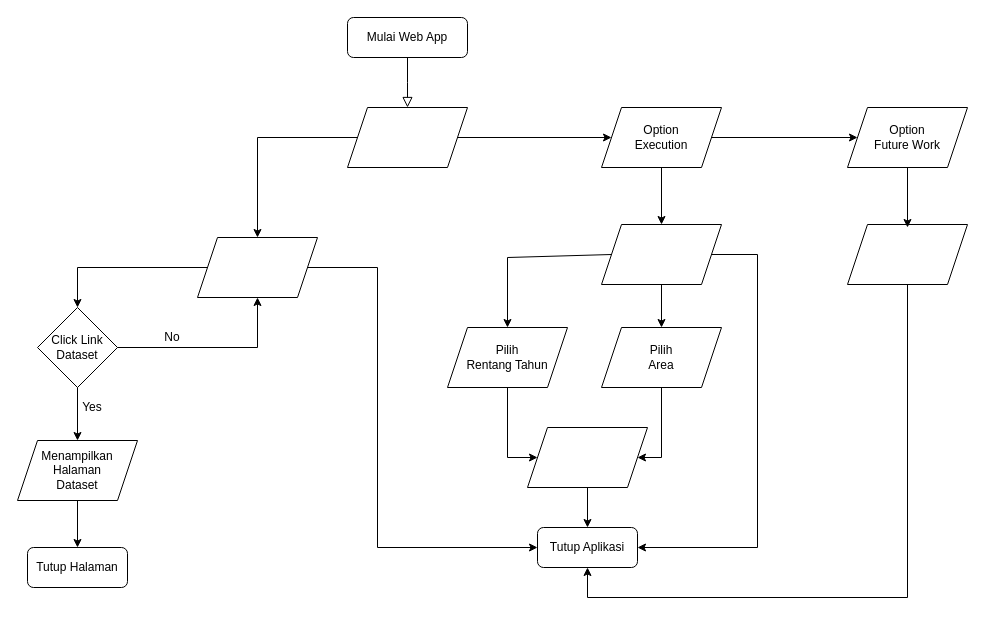
This 985x623 diagram has some shape labels left out. The centre of each missing label's shape, as x and y in pixels:
Menampilkan Halaman Execution: point (661, 254)
Menampilkan Halaman Future Work: point (907, 254)
Menampilkan Halaman Introduction: point (257, 267)
Menampilkan Visualisasi Data: point (587, 457)
Option Introduction: point (407, 137)
